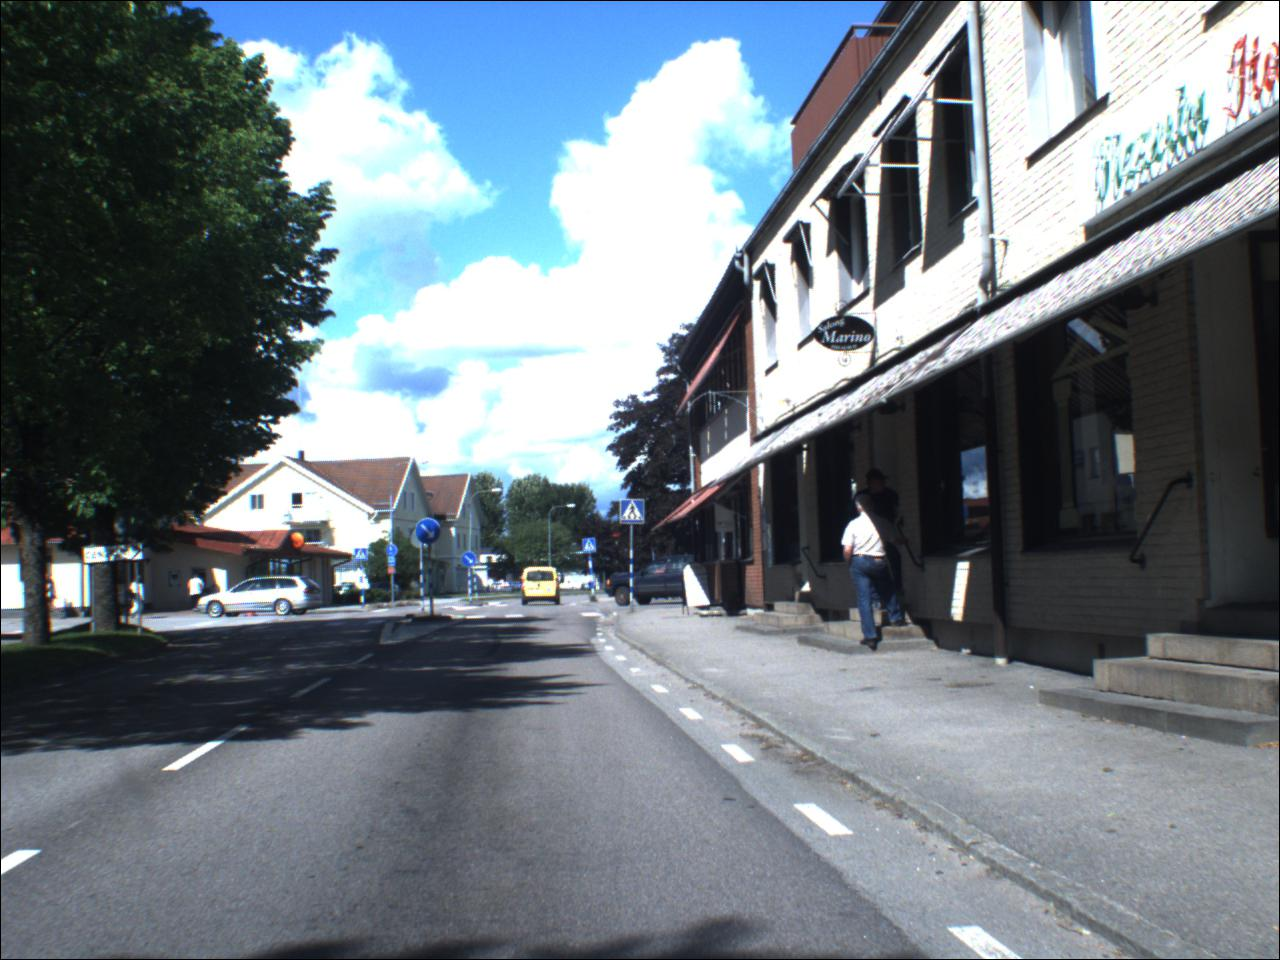PASS_RIGHT_SIDE: (418, 518, 444, 548), (463, 553, 479, 570)
PEDESTRIAN_CROSSING: (621, 502, 648, 528), (583, 541, 599, 555), (356, 550, 371, 564)
